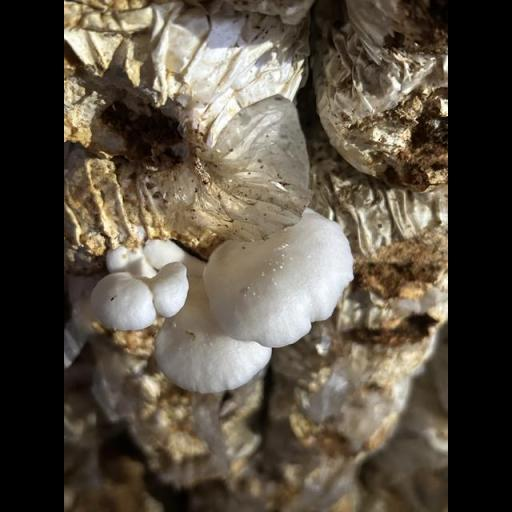White Oyster Mushroom: (95, 212, 353, 391), (93, 243, 189, 331)
